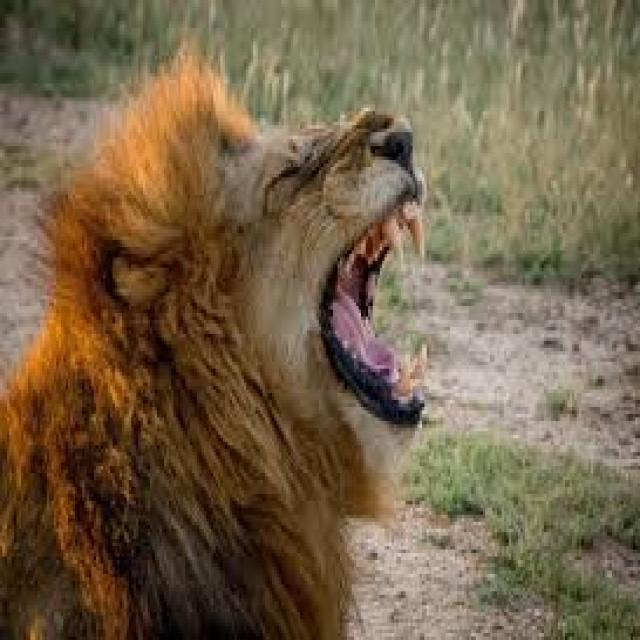Lion: (7, 54, 427, 635)
